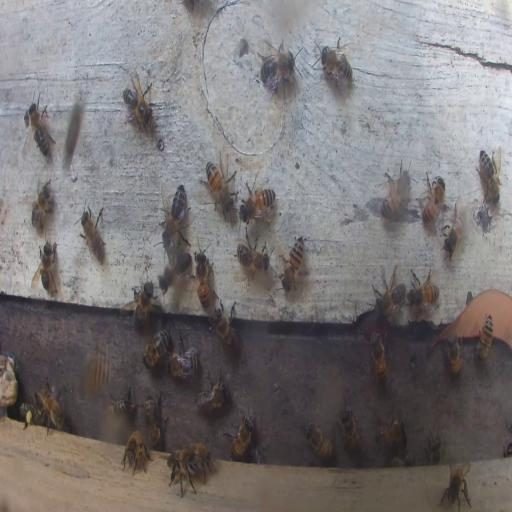nonpollenbee: (258, 39, 297, 96), (204, 154, 237, 215), (318, 36, 353, 93), (25, 95, 53, 160), (371, 268, 406, 319), (440, 459, 474, 511), (78, 202, 105, 266), (380, 164, 411, 219), (121, 79, 153, 131), (240, 182, 278, 224), (163, 185, 189, 245), (158, 249, 193, 293), (82, 336, 109, 393), (168, 449, 200, 497), (417, 173, 446, 225), (32, 239, 58, 296), (477, 147, 502, 206), (236, 237, 269, 279), (122, 428, 152, 474), (407, 268, 439, 311), (36, 382, 64, 430), (282, 234, 305, 292), (441, 204, 465, 259), (226, 414, 254, 460), (30, 179, 55, 230), (212, 304, 239, 350), (195, 373, 226, 413), (129, 281, 155, 328), (305, 421, 334, 463), (180, 440, 212, 478), (144, 394, 166, 447), (142, 328, 171, 368), (196, 247, 214, 308), (338, 408, 362, 453), (369, 331, 388, 385), (167, 346, 199, 378), (374, 417, 406, 449), (476, 315, 494, 361), (108, 388, 136, 416), (444, 334, 462, 377), (427, 428, 442, 462), (391, 450, 415, 465), (249, 446, 265, 464)
pollenbee: (20, 404, 38, 426)
